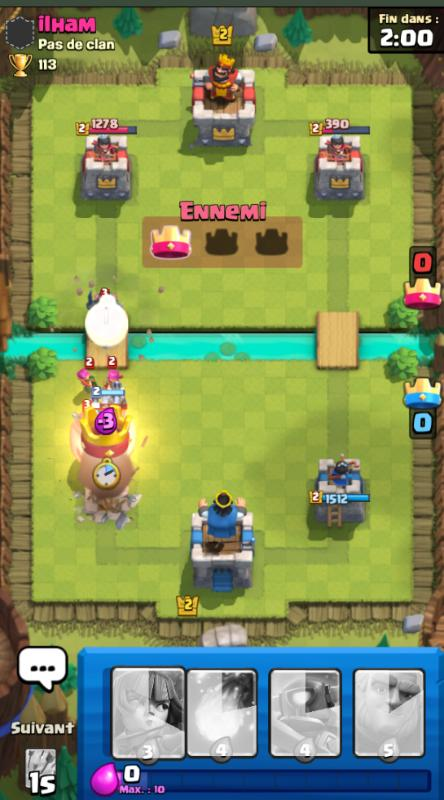archere: (104, 366, 130, 400), (77, 367, 97, 396)
geant: (69, 407, 138, 463)
mini_PEKKA: (84, 293, 125, 322)
